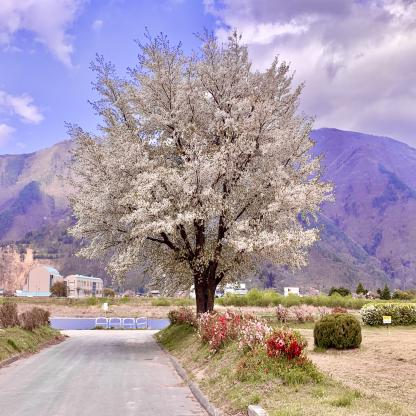OshimaSakura: (57, 21, 338, 283)
